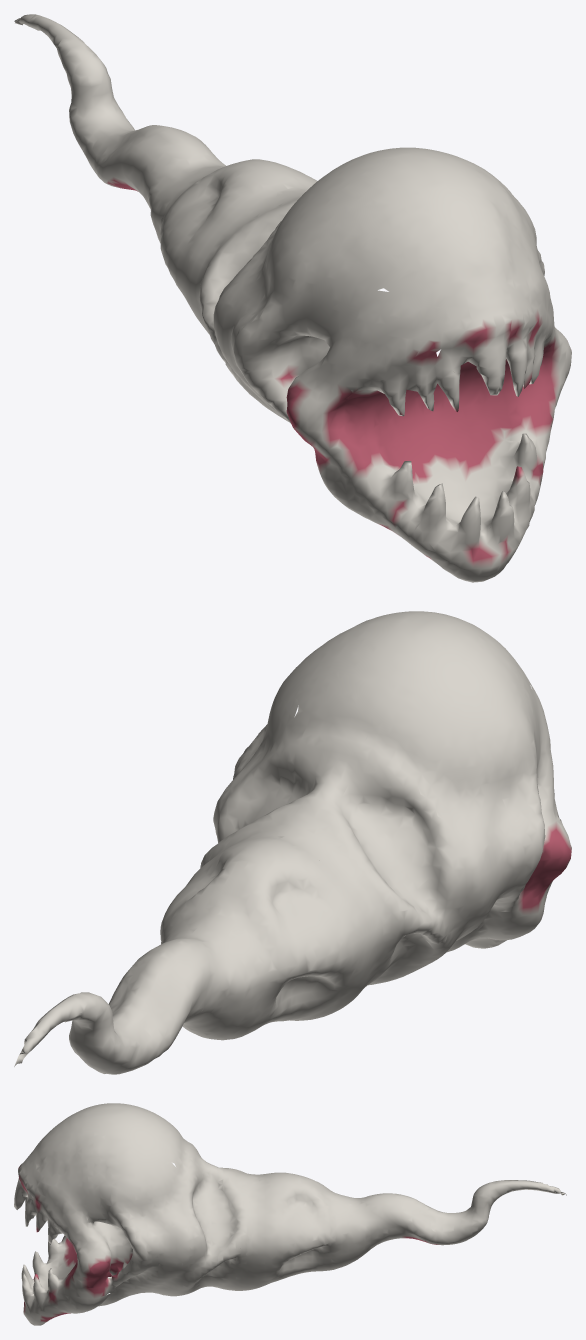
Rendered from mon3d.glb.
The picture shows the model from 3 angles, top to bottom: view 1: azimuth 30°, elevation 25°; view 2: azimuth 150°, elevation 25°; view 3: azimuth 270°, elevation 25°; orthographic projection. The views are drawn at different scales.
Bounding box in the file's own units: 0.7083 × 0.8149 × 1.93.
